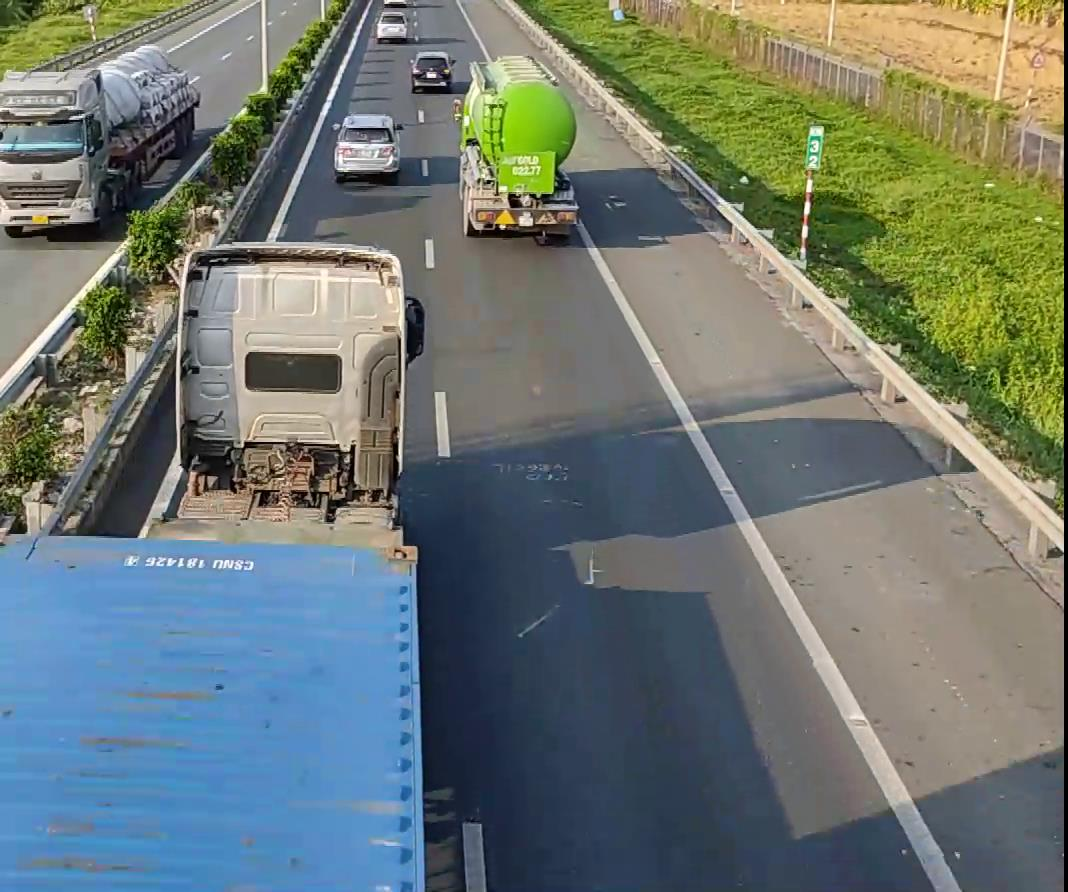car: (331, 111, 402, 181)
container: (1, 248, 433, 888), (0, 48, 200, 235), (455, 54, 578, 242)
